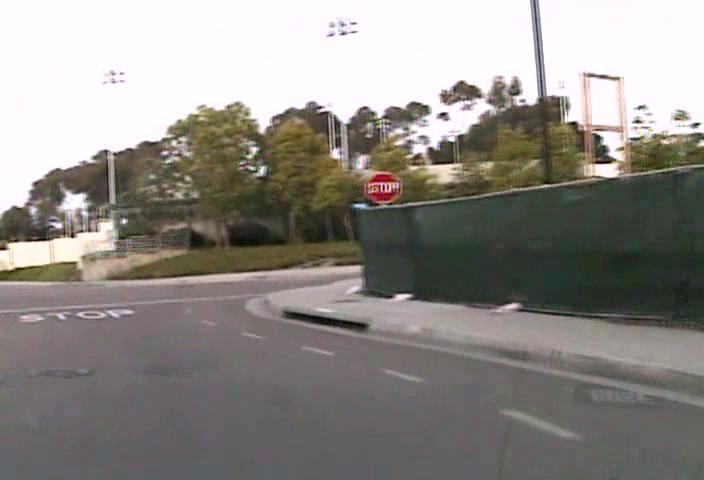stop: (365, 170, 402, 204)
